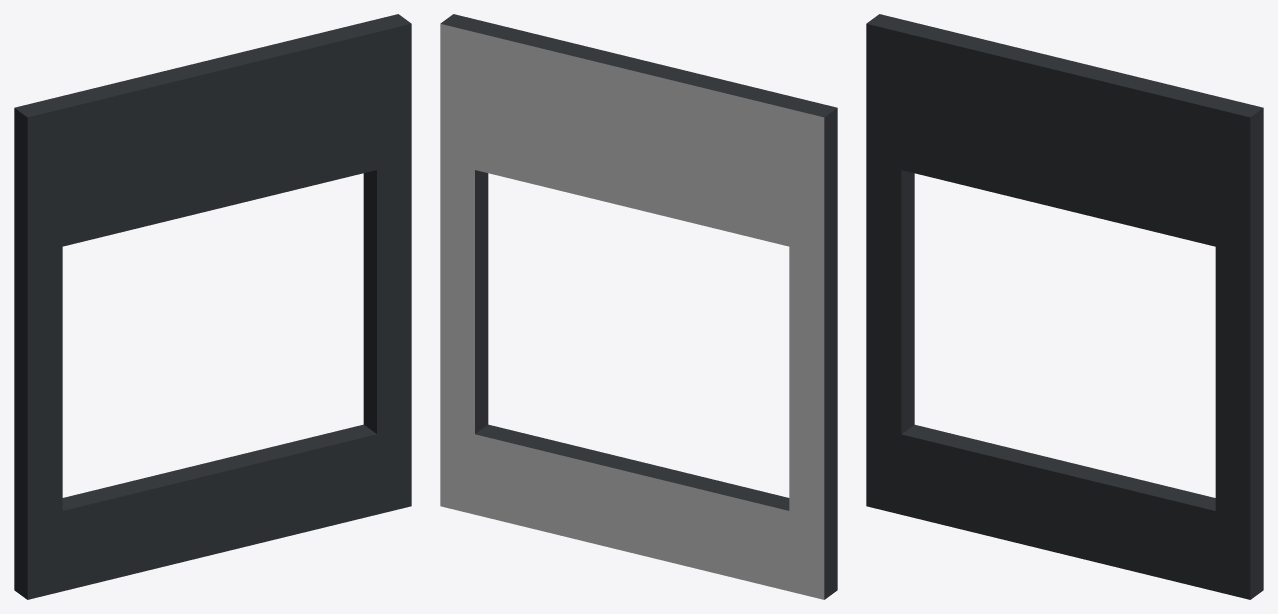
File: Wall1_C4_05.fbx
The picture shows the model from 3 angles, left to right: view 1: azimuth 30°, elevation 25°; view 2: azimuth 150°, elevation 25°; view 3: azimuth 330°, elevation 25°; orthographic projection.
Parts seen in each view (by area): view 1: Wall1_C4_05; view 2: Wall1_C4_05; view 3: Wall1_C4_05.
Part boxes in pixels (left/top/right/bottom): Wall1_C4_05: left=14, top=14, right=411, bottom=599; Wall1_C4_05: left=440, top=14, right=837, bottom=599; Wall1_C4_05: left=866, top=14, right=1263, bottom=599.
Bounding box in the file's own units: 250 × 300 × 15.
